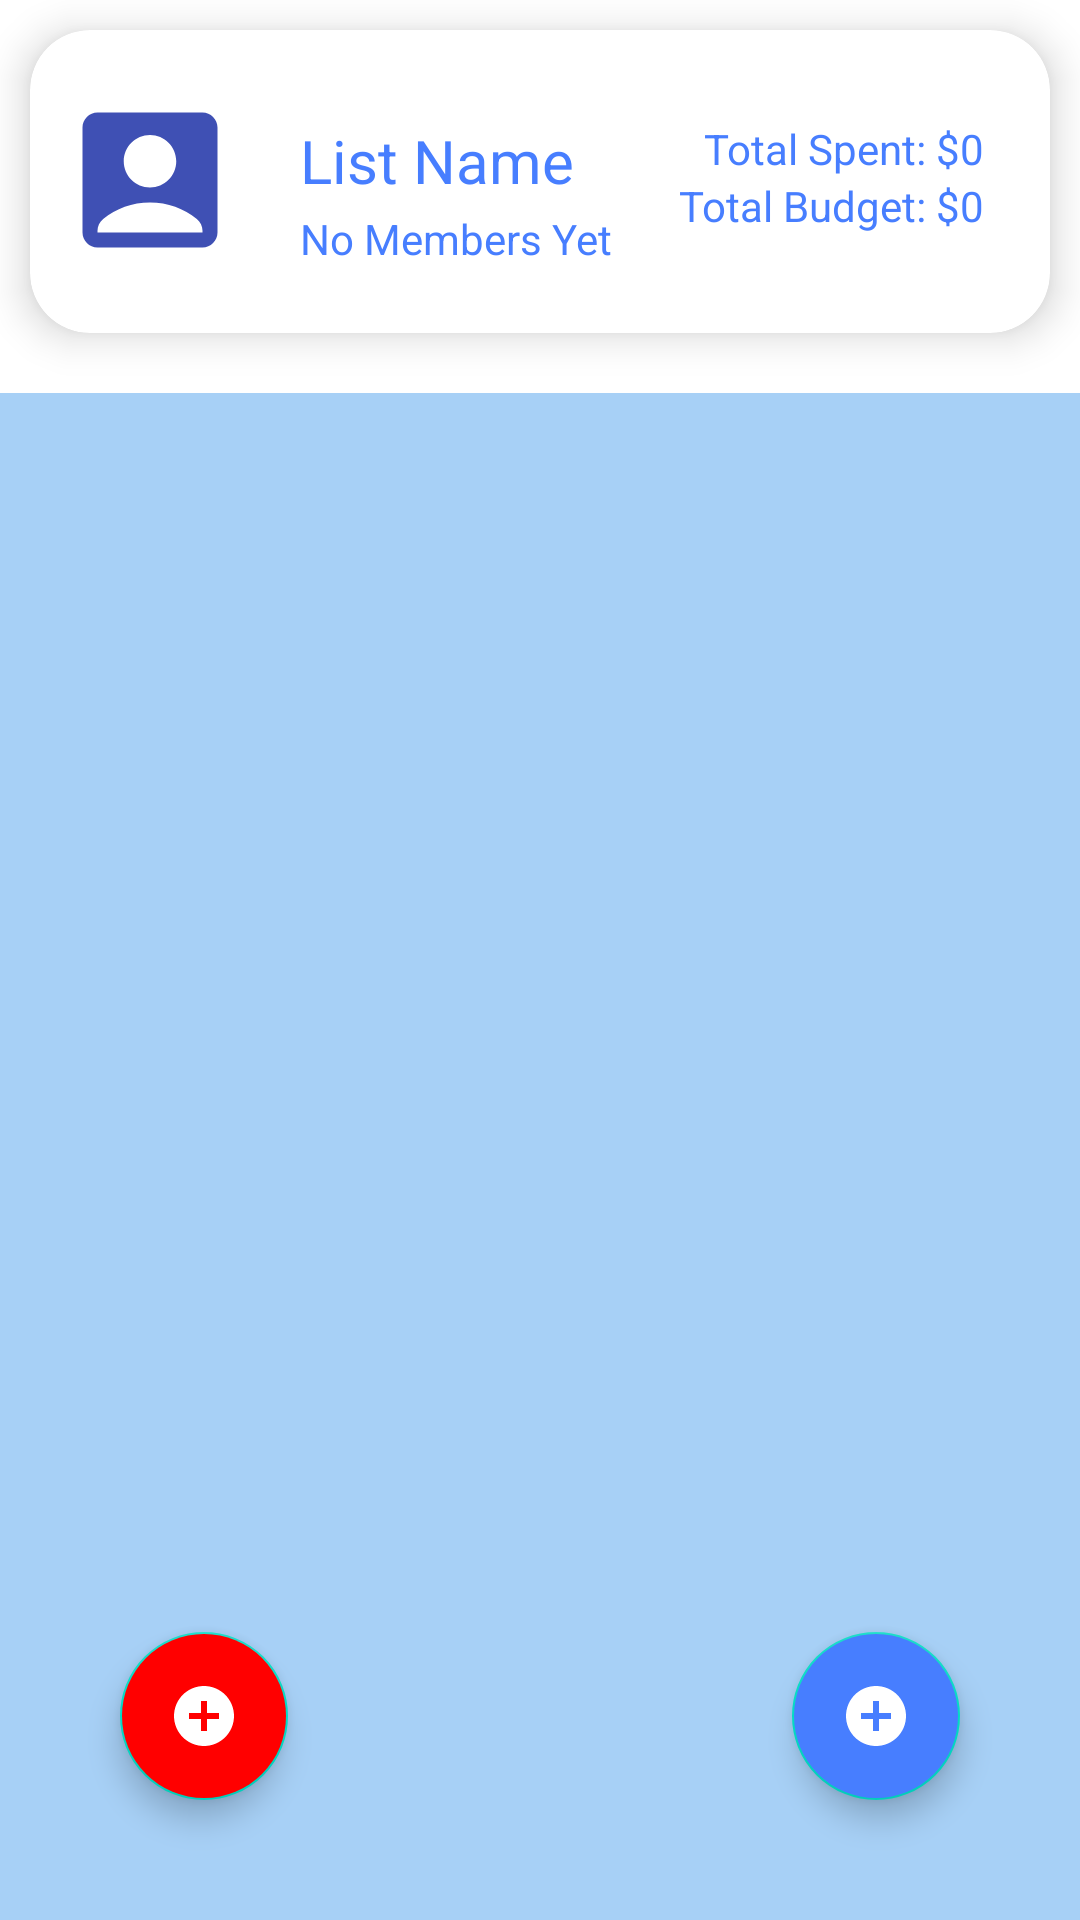

Screen size 1080w x 1920h. Icon name, then its center in pixels as [x,y]:
account box: [150,180]
Creating Member Button: [876,1716]
